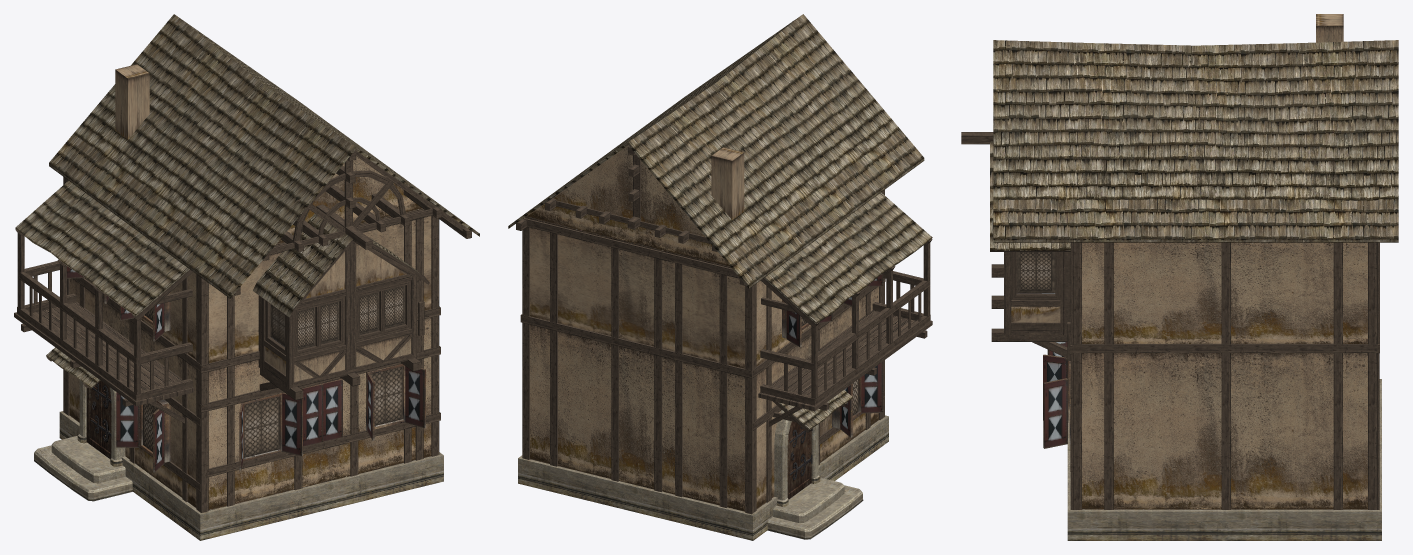
The model's file is free_house.obj.
3 views of the same model, side by side, from view 1: azimuth 30°, elevation 25°; view 2: azimuth 150°, elevation 25°; view 3: azimuth 270°, elevation 25° (orthographic). The views are drawn at different scales.
Visible parts, largest first — view 1: roof01, DefaultLib1_u_1, DefaultLib1_s_7, doorwindow_set, DefaultLib2_martin_stone_005_mt_ncl1_4, DefaultLib2_martin_door_002_mt_ncl1_4; view 2: DefaultLib1_s_7, roof01, DefaultLib1_u_1, DefaultLib2_martin_stone_005_mt_ncl1_4, doorwindow_set, DefaultLib2_martin_door_002_mt_ncl1_4; view 3: roof01, DefaultLib1_s_7, DefaultLib1_u_1, DefaultLib2_martin_stone_005_mt_ncl1_4, doorwindow_set.
Part boxes in pixels (bbox=[...]): roof01: bbox=[15, 14, 479, 388]; DefaultLib1_u_1: bbox=[14, 87, 471, 512]; DefaultLib1_s_7: bbox=[69, 64, 431, 510]; doorwindow_set: bbox=[67, 266, 425, 472]; DefaultLib2_martin_stone_005_mt_ncl1_4: bbox=[34, 380, 443, 540]; DefaultLib2_martin_door_002_mt_ncl1_4: bbox=[86, 380, 111, 459]; DefaultLib1_s_7: bbox=[525, 145, 878, 511]; roof01: bbox=[508, 14, 932, 429]; DefaultLib1_u_1: bbox=[516, 20, 932, 514]; DefaultLib2_martin_stone_005_mt_ncl1_4: bbox=[518, 410, 888, 540]; doorwindow_set: bbox=[782, 273, 883, 437]; DefaultLib2_martin_door_002_mt_ncl1_4: bbox=[787, 421, 811, 499]; roof01: bbox=[990, 40, 1398, 250]; DefaultLib1_s_7: bbox=[1011, 14, 1367, 509]; DefaultLib1_u_1: bbox=[961, 45, 1379, 509]; DefaultLib2_martin_stone_005_mt_ncl1_4: bbox=[1067, 379, 1381, 540]; doorwindow_set: bbox=[1016, 252, 1070, 448].
Size of the model in its own units: 9.97 by 12.21 by 11.12.
Materials: 7 (7 with a texture image).
